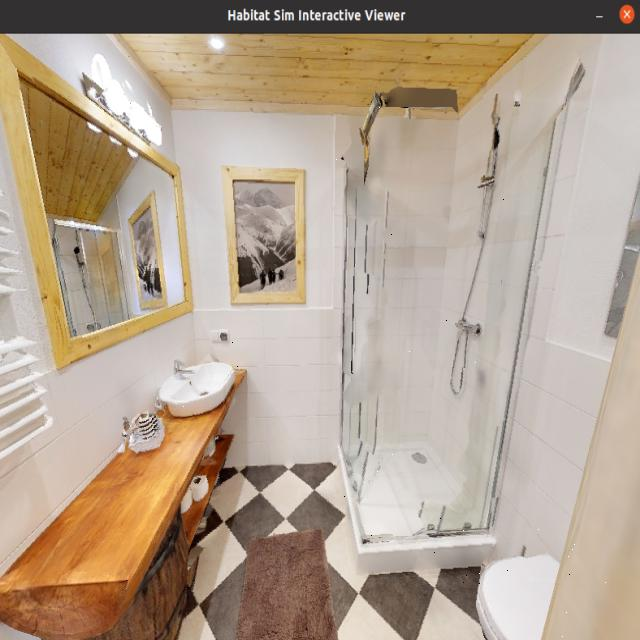shower: (328, 102, 546, 571)
sink: (153, 340, 245, 429)
toilet: (457, 529, 607, 640)
